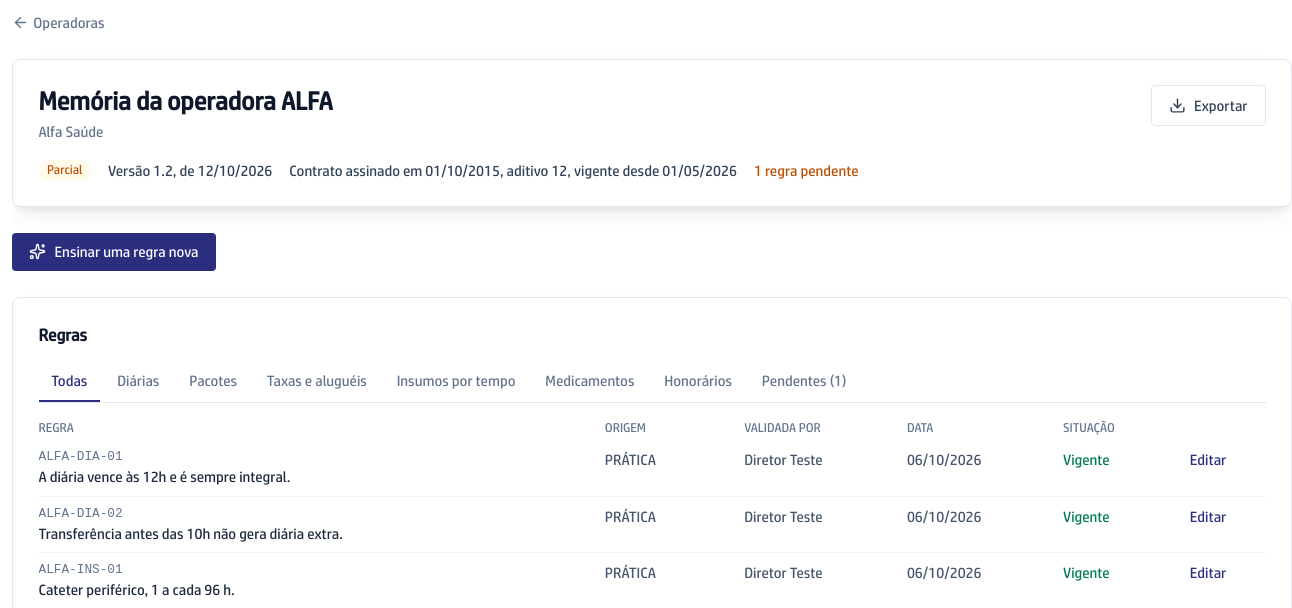
Test: ensinar uma regra nova (issue #1141) › mostra a recusa da proposta como veio
Click the button "Ensinar uma regra nova". click: (114, 252)
box: [12,233,216,271]
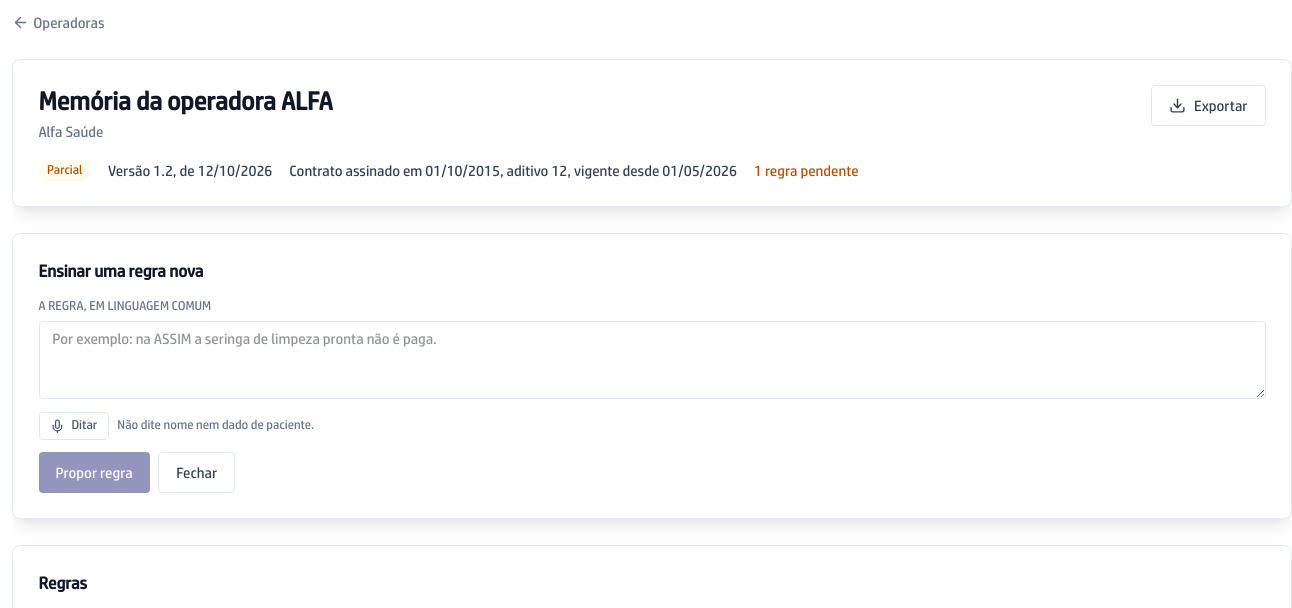
Replace the text in the text box labelled "A regra, em linguagem comum" with "Qualquer regra.". click: (652, 360)
box: [38,321,1266,400]
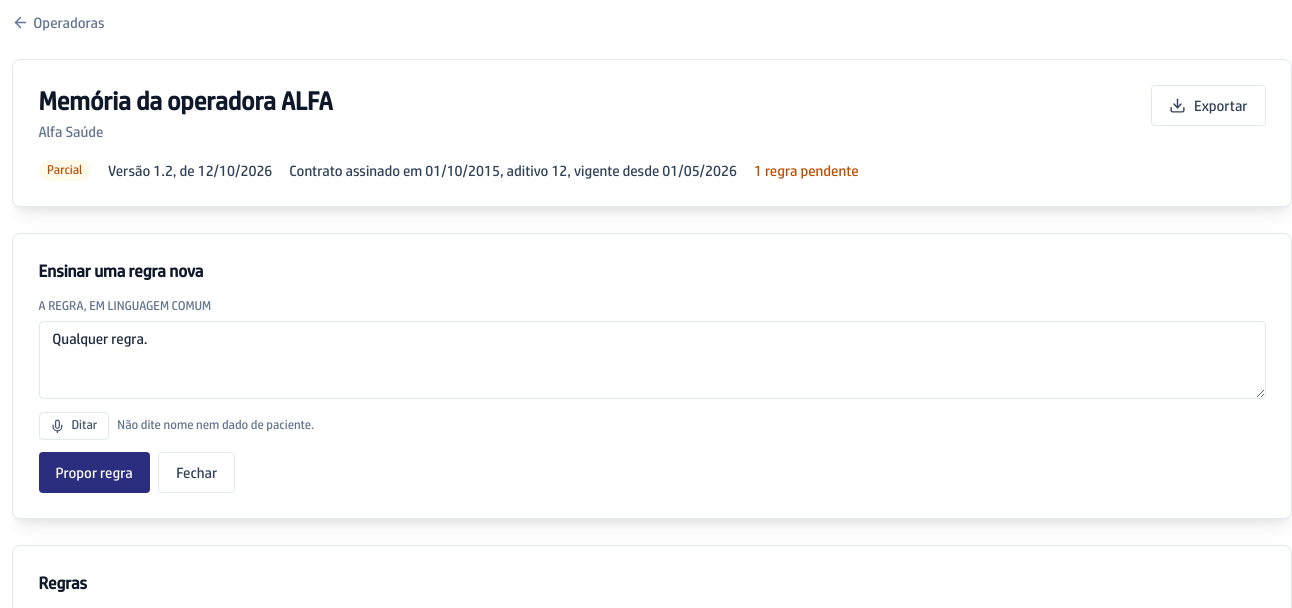
Click the button "Propor regra". click: (94, 473)
box: [38,452,150,493]
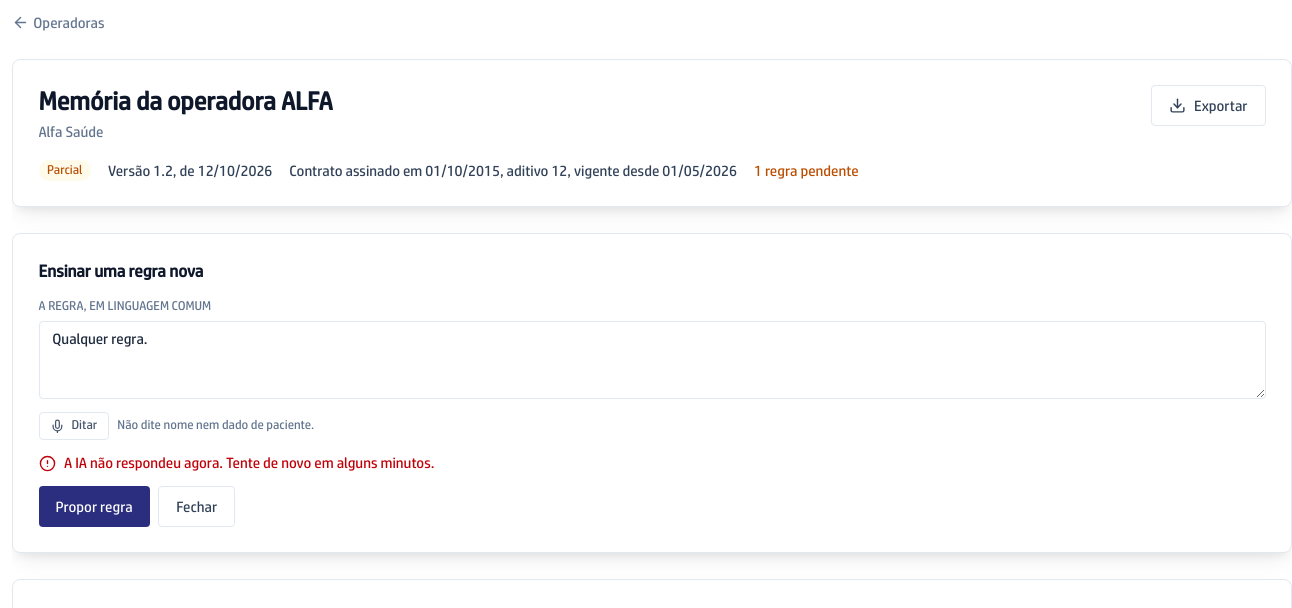
Check: the message shows "A IA não respondeu agora.", box [64,454,434,472]
